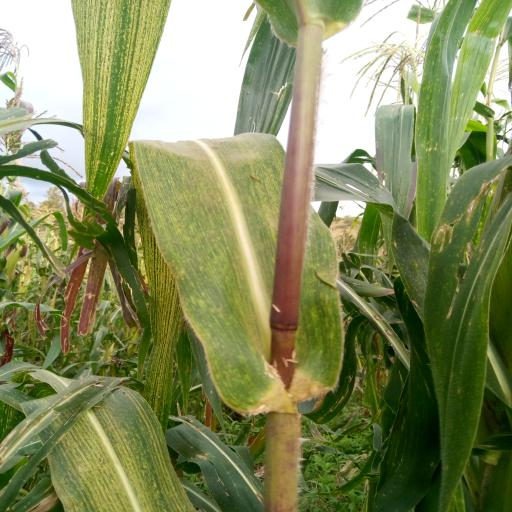Corn_Streak: (130, 131, 343, 407), (56, 2, 177, 202), (23, 381, 185, 512)
